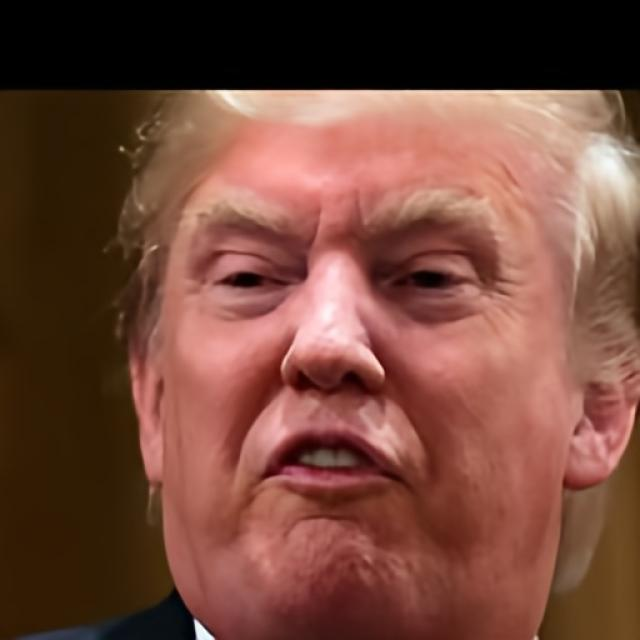disgust: (158, 112, 568, 640)
